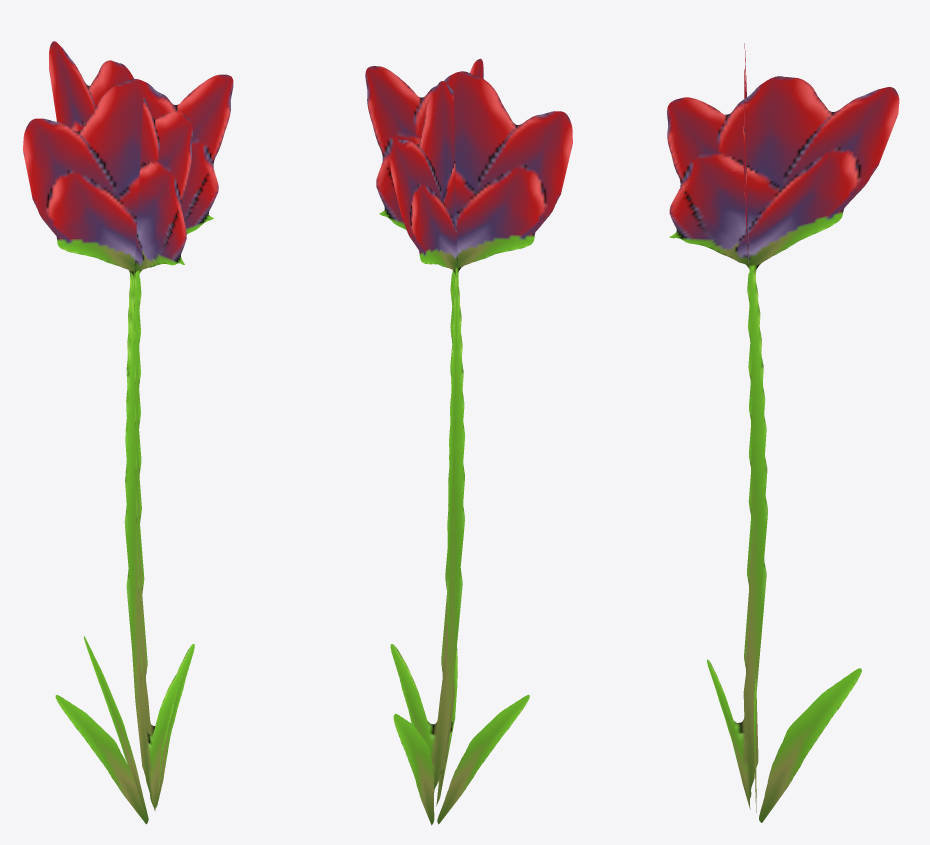
The model's file is SM_F_Flower_01.fbx.
3 views of the same model, side by side, from view 1: azimuth 30°, elevation 25°; view 2: azimuth 150°, elevation 25°; view 3: azimuth 270°, elevation 25° (orthographic). The views are drawn at different scales.
Parts seen in each view (by area): view 1: SM_F_Flower_01; view 2: SM_F_Flower_01; view 3: SM_F_Flower_01.
Part boxes in pixels (box(x1,y1,x2,y2)): SM_F_Flower_01: box(23, 41, 233, 824); SM_F_Flower_01: box(365, 58, 572, 825); SM_F_Flower_01: box(667, 43, 899, 822).
Size of the model in its own units: 17.62 by 50.71 by 17.49.
